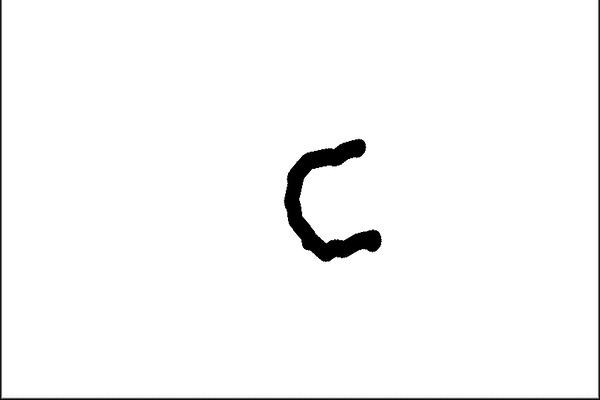C: (278, 131, 387, 264)
